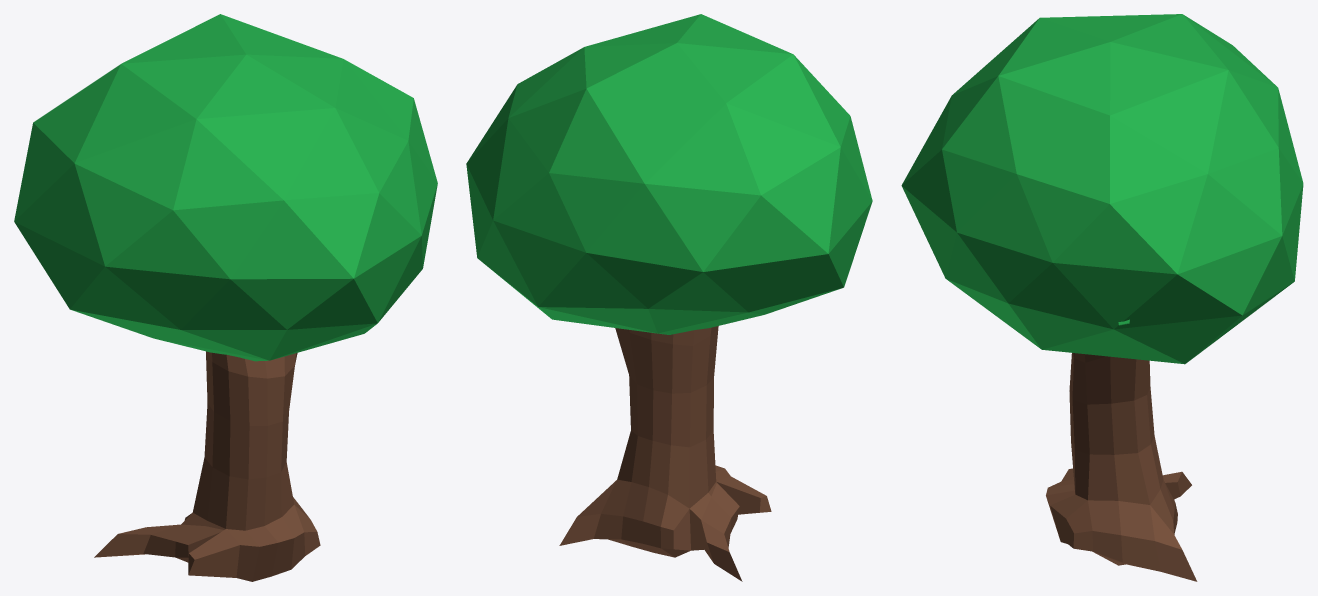
Rendered from Tree.fbx.
3 renders of one model, left to right at view 1: azimuth 30°, elevation 25°; view 2: azimuth 150°, elevation 25°; view 3: azimuth 270°, elevation 25°, orthographic. The views are drawn at different scales.
Parts seen in each view (by area): view 1: Cube; view 2: Cube; view 3: Cube.
Boxes of the visible parts, <box> form: Cube: <box>14,14,437,581</box>; Cube: <box>466,14,872,581</box>; Cube: <box>901,14,1303,581</box>.
Size of the model in its own units: 491 by 643 by 458.
